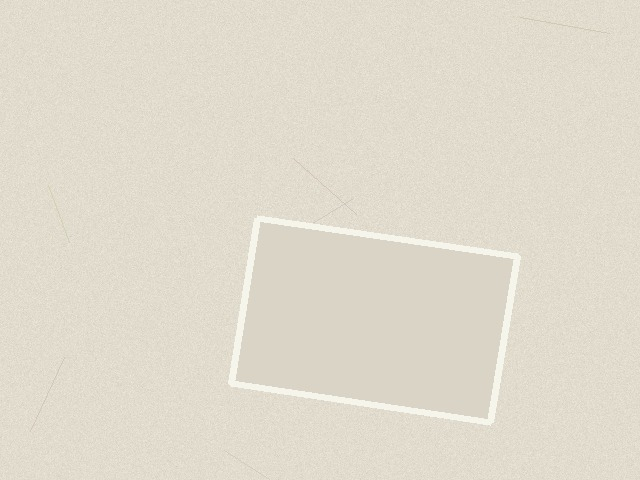parking_area: (231, 218, 517, 422)
